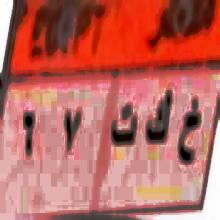6: (19, 101, 37, 162)
7: (58, 94, 86, 157)
kaaf: (144, 88, 174, 154)
khaa: (175, 89, 206, 173)
taa: (111, 100, 139, 151)
